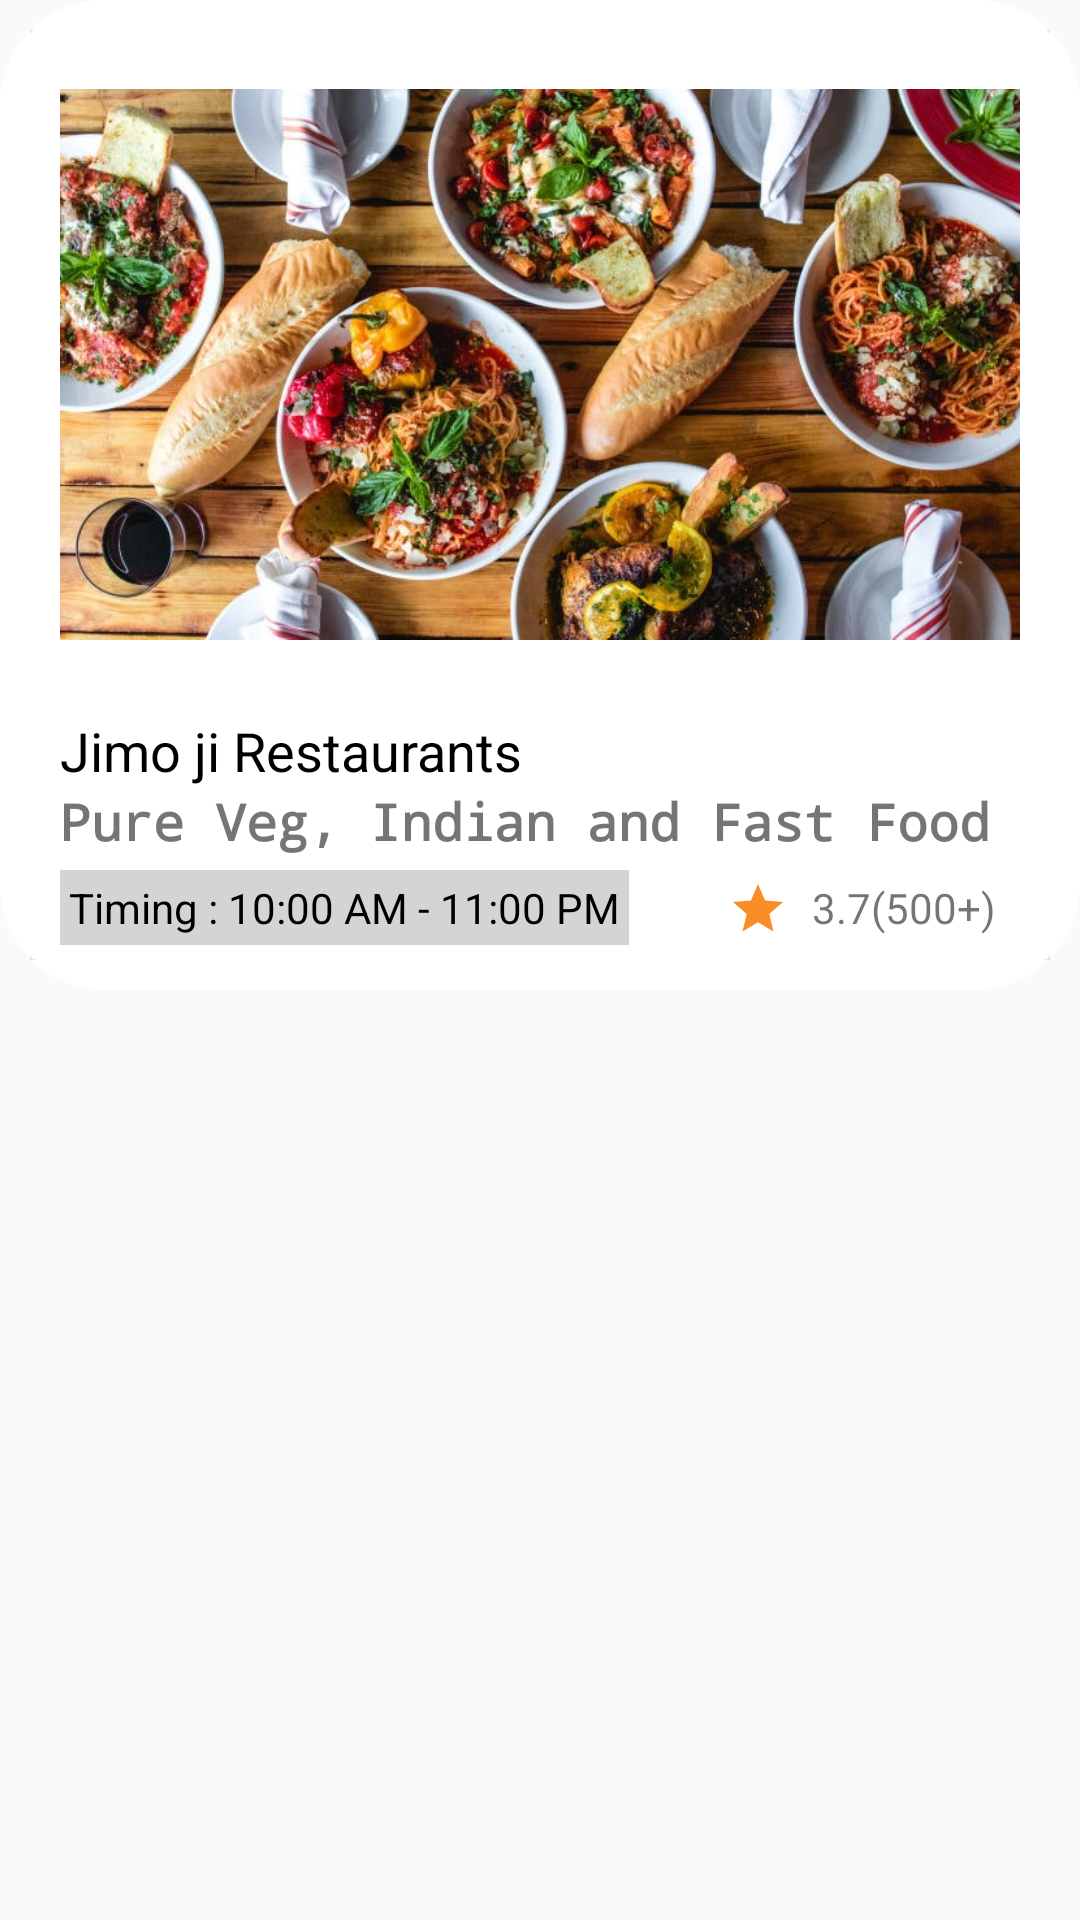

Where to tap for icons on this 1080x1920 app screen, as point (x, y):
star: point (758, 908)
